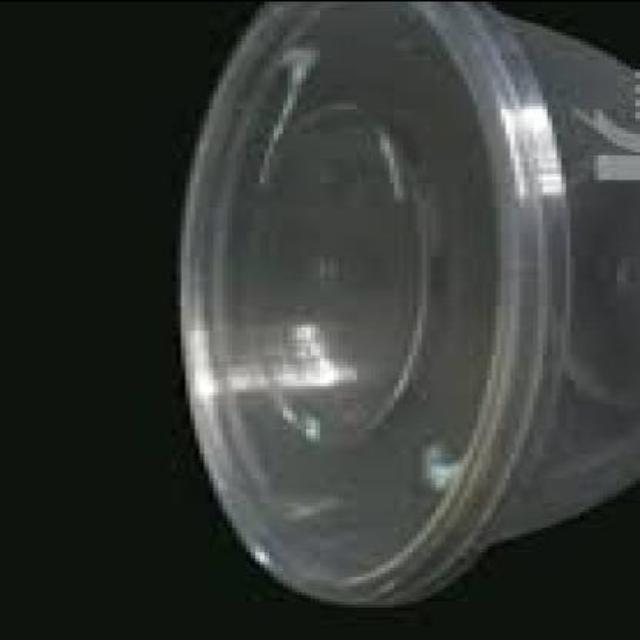plastic_box: (180, 3, 636, 603)
